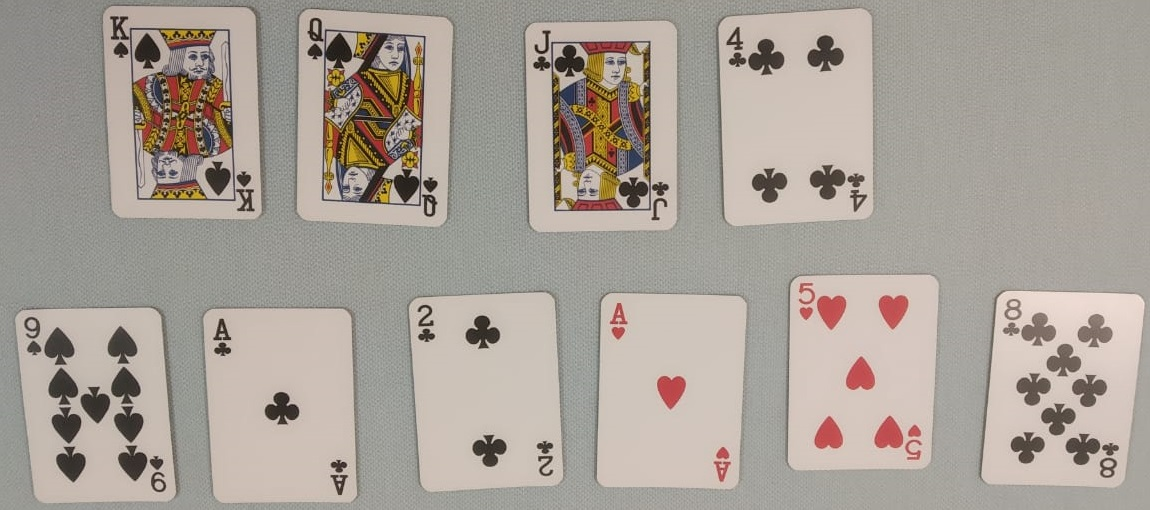ace: (199, 302, 365, 507), (591, 285, 749, 497)
eight: (973, 280, 1150, 501)
five: (779, 268, 944, 483)
four: (711, 6, 881, 230)
jack: (517, 11, 684, 243)
king: (97, 1, 268, 225)
nine: (11, 304, 183, 507)
queen: (290, 3, 459, 236)
two: (406, 285, 573, 496)
